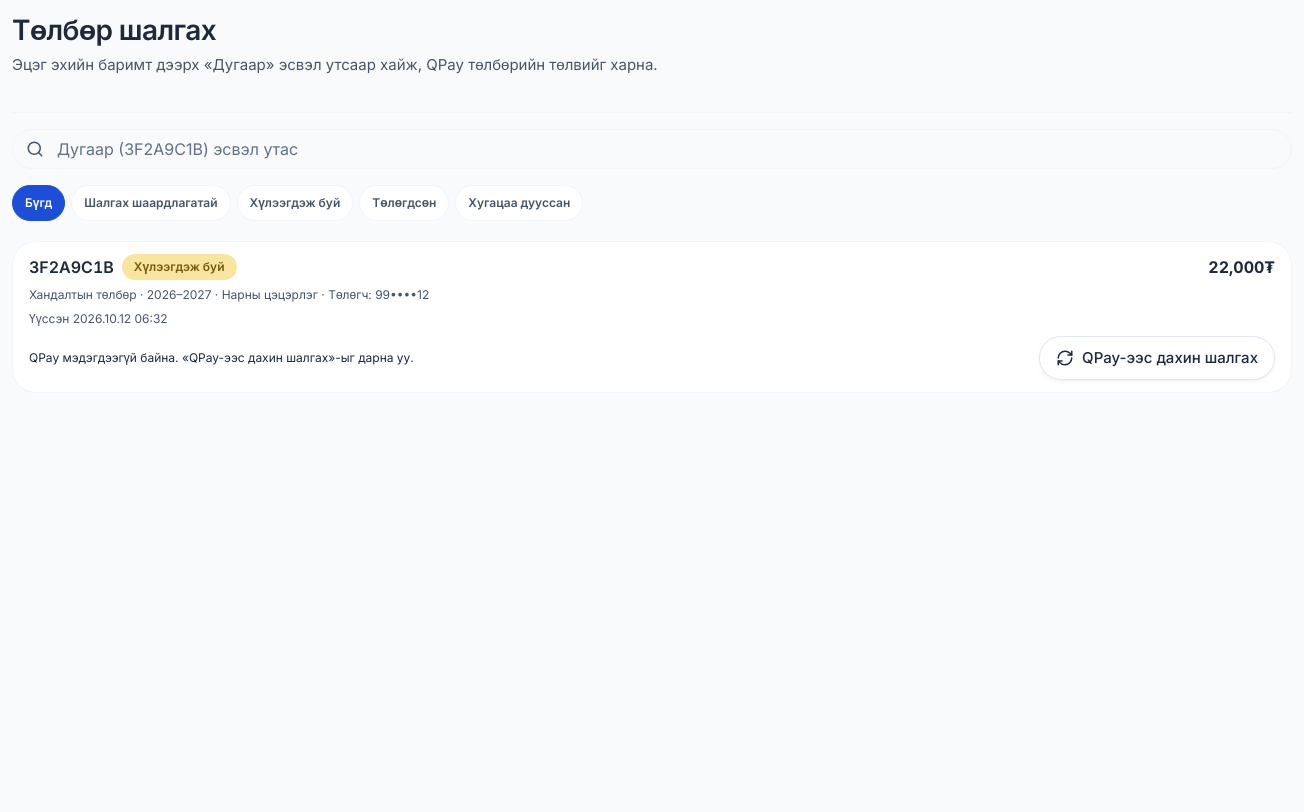
Test case: the operator's payment check › asks QPay again and says when the payment has settled
Click the button "QPay-ээс дахин шалгах" at (1157,358), box [1039,336,1275,380]
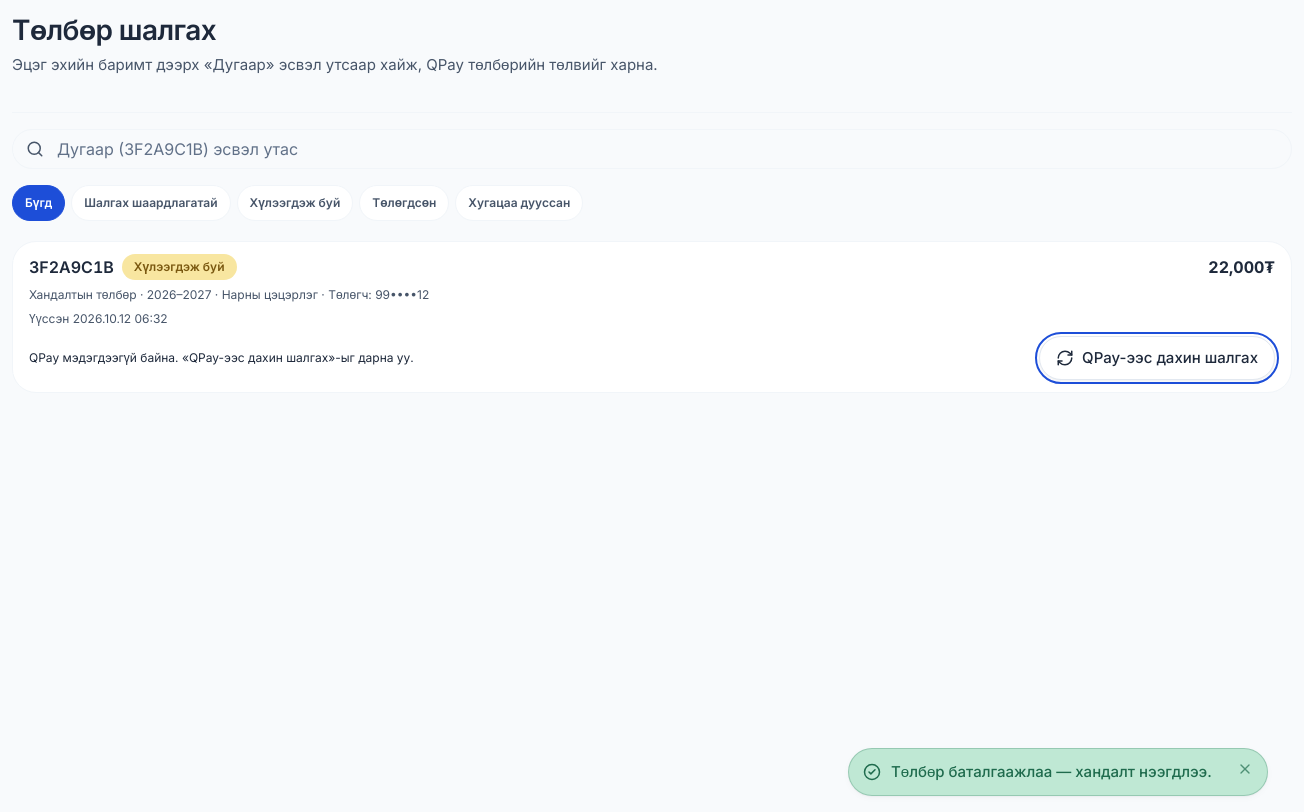
Expected: the text "Төлбөр баталгаажлаа — хандалт нээгдлээ." is shown, [891,760,1227,783]
